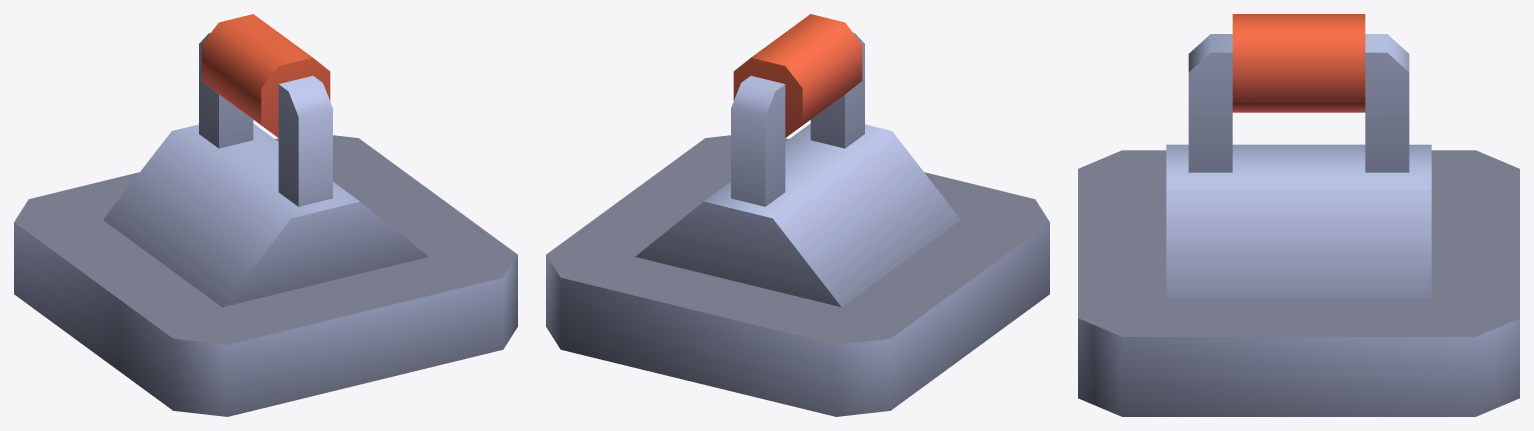
The model's file is lever-double.glb.
3 renders of one model, left to right at view 1: azimuth 30°, elevation 25°; view 2: azimuth 150°, elevation 25°; view 3: azimuth 270°, elevation 25°, orthographic. The views are drawn at different scales.
Parts seen in each view (by area): view 1: lever-double, handle; view 2: lever-double, handle; view 3: lever-double, handle.
Part boxes in pixels (x1,y1,x2,y2): lever-double: (14, 123, 517, 416); handle: (199, 14, 332, 206); lever-double: (546, 123, 1049, 416); handle: (731, 14, 864, 206); lever-double: (1078, 144, 1519, 416); handle: (1188, 14, 1409, 172).
Bounding box in the file's own units: 0.5 × 0.375 × 0.5.
1 material, 1 textured.
